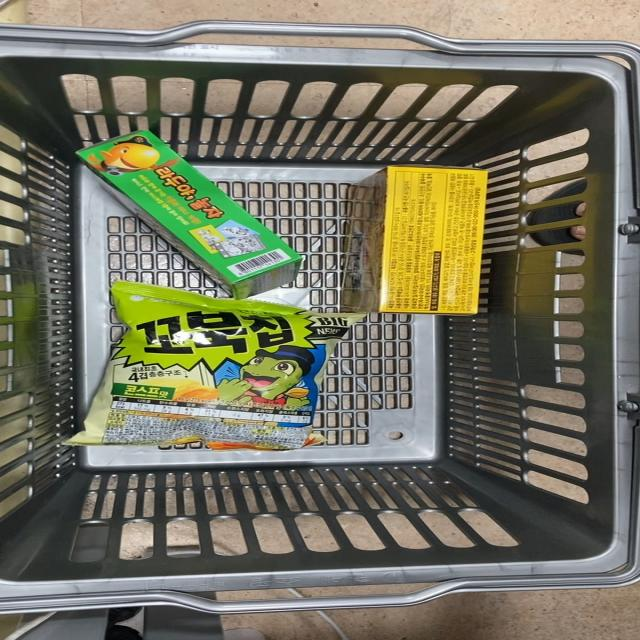ggobukchip: (87, 288, 328, 454)
goraebob: (66, 119, 314, 294)
minicrab: (324, 149, 501, 323)
